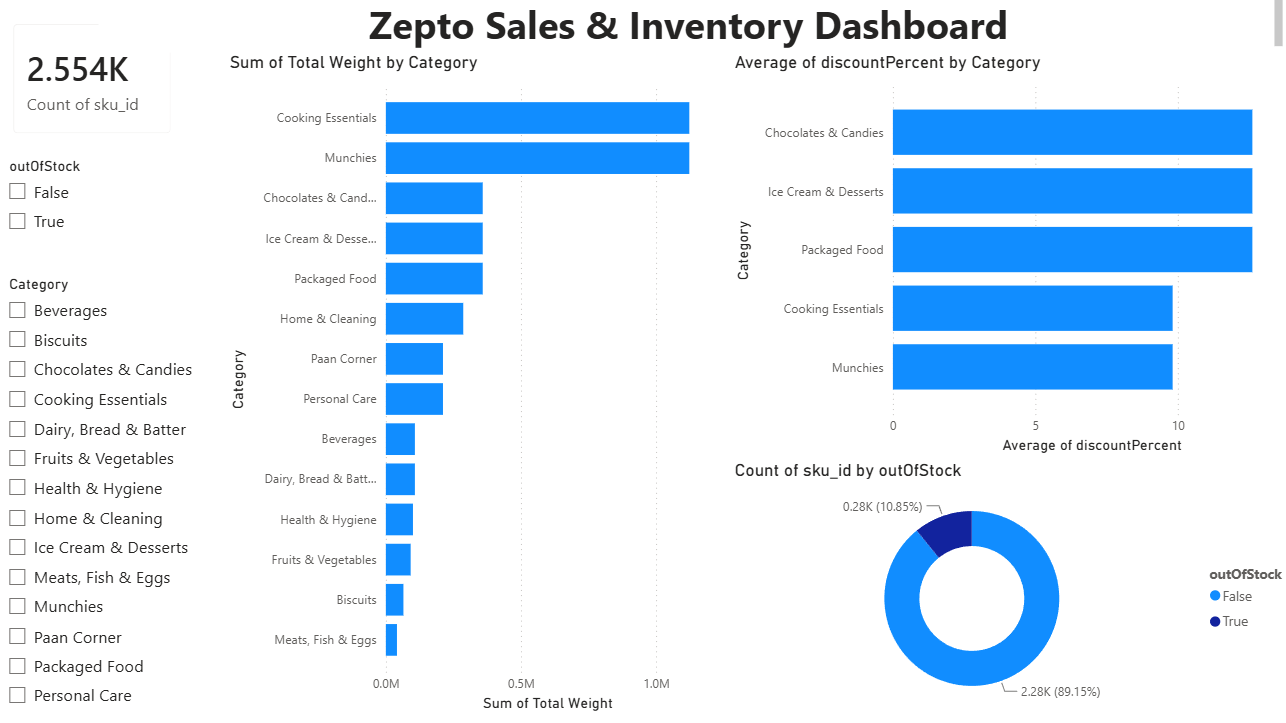

What the dashboard file says about the page in this screenshot:
{"tool":"powerbi","page":{"name":"Page 1","canvas":[1280,720],"ordinal":0},"visuals":[{"type":"cardVisual","fields":{"Data":["CountNonNull(zepto_v3.sku_id)"]},"box":[0,13.3,188.3,141.7],"z":2},{"type":"donutChart","fields":{"Category":["zepto_v3.outOfStock"],"Y":["CountNonNull(zepto_v3.sku_id)"]},"box":[718,456,562,252],"z":3},{"type":"clusteredBarChart","fields":{"Category":["zepto_v3.Category"],"Y":["Avg(zepto_v3.discountPercent)"]},"box":[718,58,562,398],"z":5},{"type":"clusteredBarChart","fields":{"Category":["zepto_v3.Category"],"Y":["Sum(zepto_v3.Total Weight)"]},"box":[224,58,494,650],"z":6},{"type":"slicer","fields":{"Values":["zepto_v3.Category"]},"box":[0,272,206,436],"z":7},{"type":"slicer","fields":{"Values":["zepto_v3.outOfStock"]},"box":[0,155,188.3,116.7],"z":8},{"type":"textbox","box":[100,0,1163.3,58.3],"z":10}]}

Visuals, with their boxes in screenshot pixels (x1, y1, x2, y2), scaled from the page's 1280x720 canvas onto the 1286x723 screenshot:
cardVisual - CountNonNull(zepto_v3.sku_id): 0,13,189,156
donutChart - zepto_v3.outOfStock x CountNonNull(zepto_v3.sku_id): 721,458,1285,711
clusteredBarChart - zepto_v3.Category x Avg(zepto_v3.discountPercent): 721,58,1285,458
clusteredBarChart - zepto_v3.Category x Sum(zepto_v3.Total Weight): 225,58,721,711
slicer - zepto_v3.Category: 0,273,207,711
slicer - zepto_v3.outOfStock: 0,156,189,273
textbox: 100,0,1269,59
